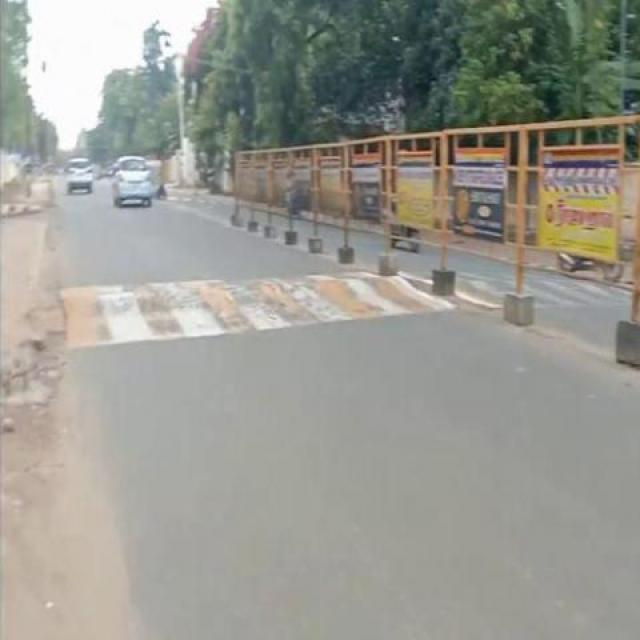Speed Bump: (63, 270, 378, 348), (534, 273, 624, 315), (460, 269, 504, 304), (378, 271, 416, 305)
